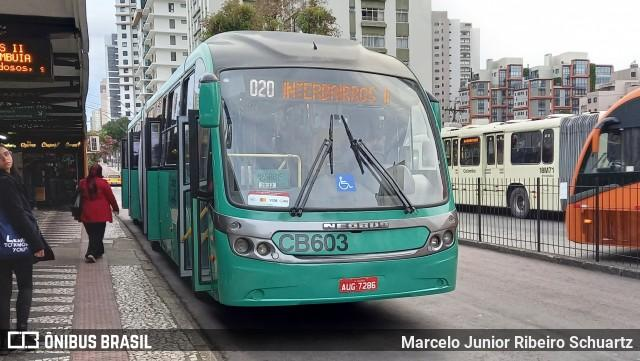INTERBAIRROS II: (279, 78, 394, 107)
